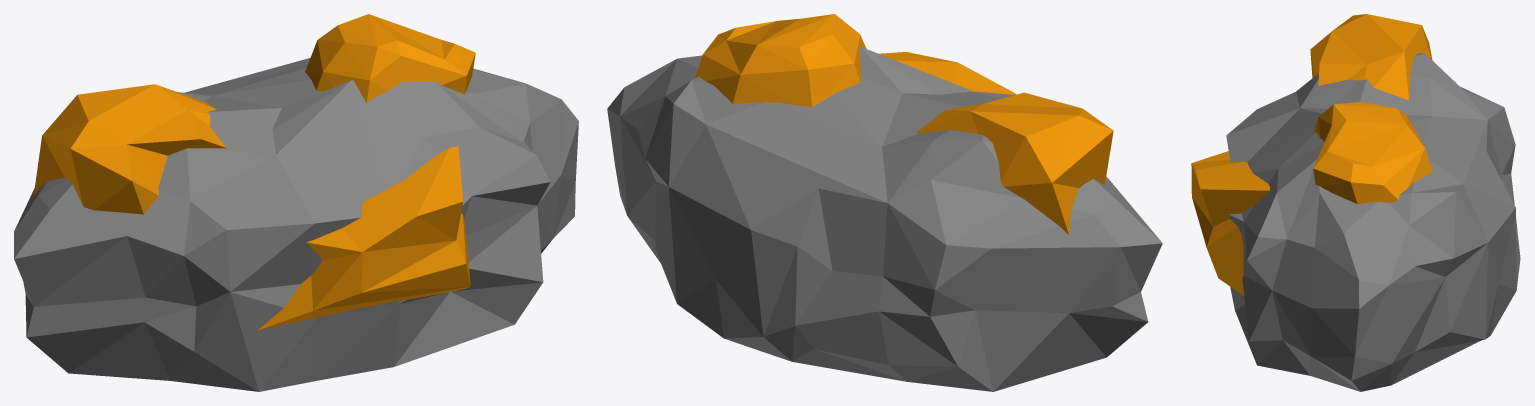
File: _stone_2.fbx
3 views of the same model, side by side, from view 1: azimuth 30°, elevation 25°; view 2: azimuth 150°, elevation 25°; view 3: azimuth 270°, elevation 25° (orthographic). The views are drawn at different scales.
Parts seen in each view (by area): view 1: stone_2; view 2: stone_2; view 3: stone_2.
Boxes of the visible parts, bbox=[...] form: stone_2: bbox=[14, 14, 578, 391]; stone_2: bbox=[607, 14, 1162, 391]; stone_2: bbox=[1191, 14, 1520, 391].
Size of the model in its own units: 261 by 118 by 157.
